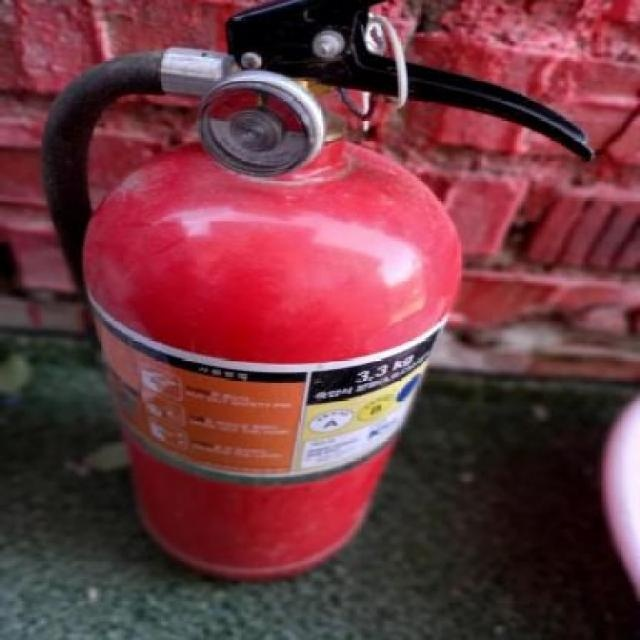fire extinguisher: (39, 0, 593, 583)
